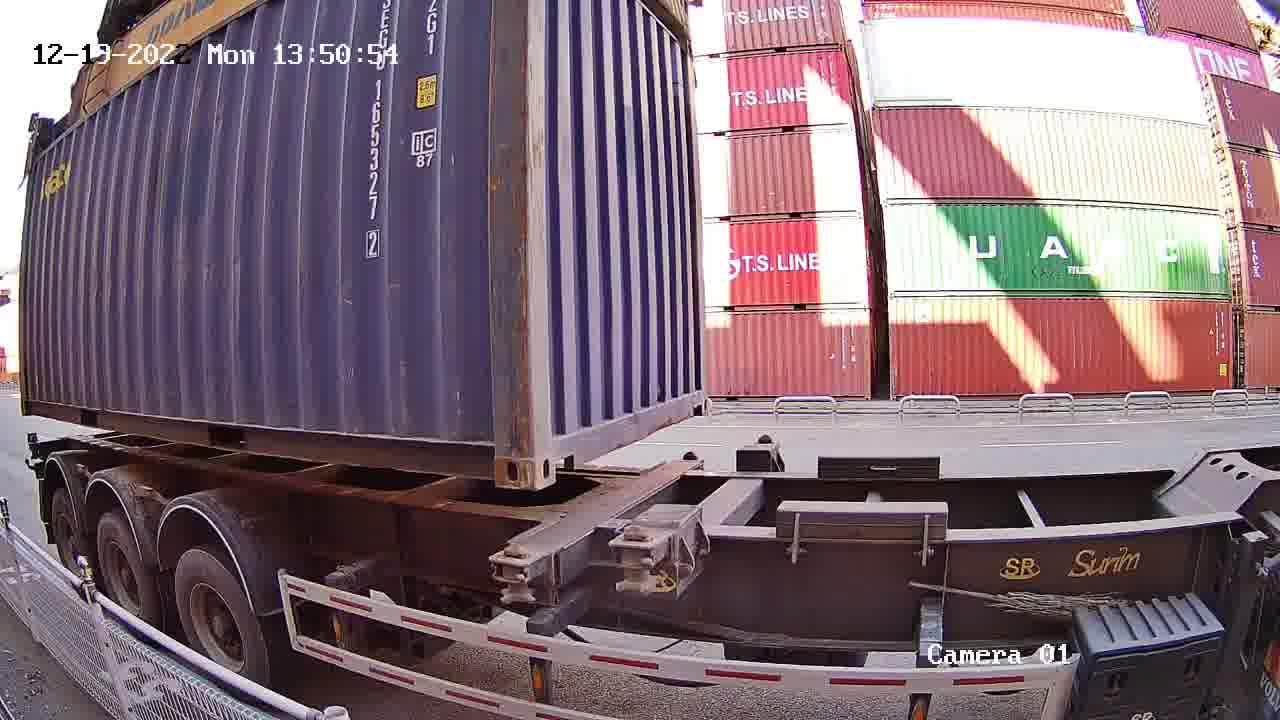Chassis: (488, 460, 701, 592)
Cone: (488, 540, 545, 606), (675, 447, 703, 467)
Hole_L: (533, 411, 579, 489)
Hole_R: (470, 427, 530, 491), (677, 368, 710, 420)
Tire: (175, 552, 259, 676), (97, 517, 151, 617), (52, 492, 82, 572)
